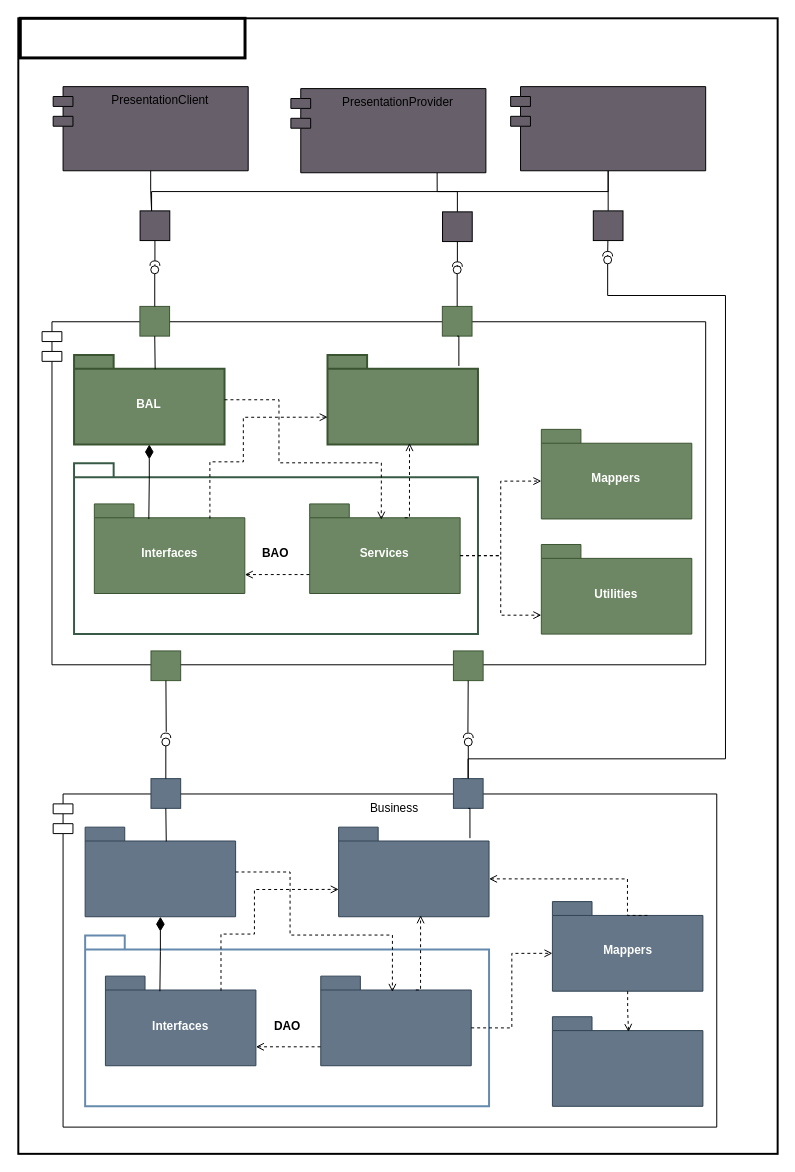
This 795x1172 diagram has some shape labels left out. The centre of each missing label's shape, as x and y in pixels:
BTO: pixel 402 399
ComponentDiagram: pixel 132 37
DAL: pixel 160 871
DTO: pixel 413 871
Entities: pixel 627 1061
PresentationAdmin: pixel 608 128
Repositories: pixel 395 1020
